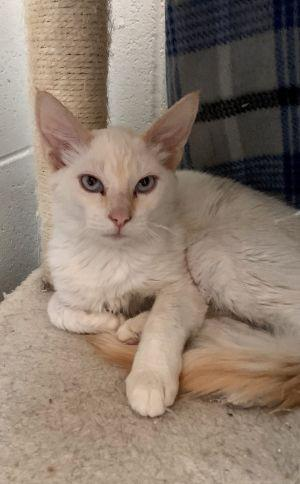siamese: (25, 77, 208, 262)
